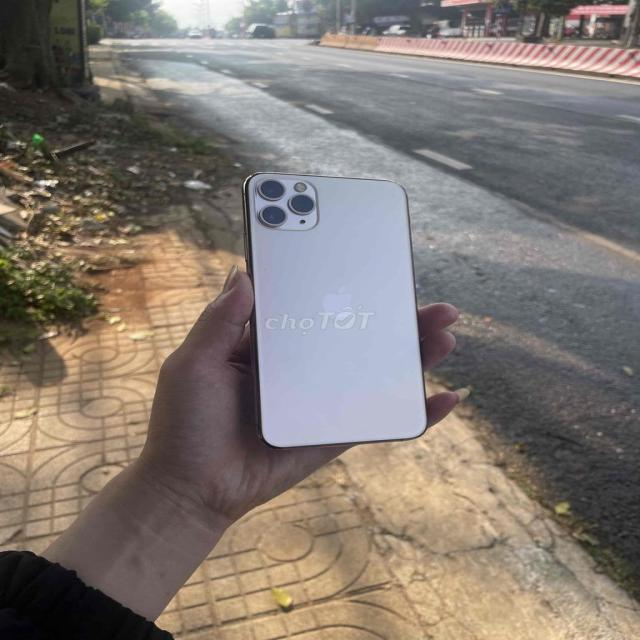gen_11: (233, 163, 436, 447)
